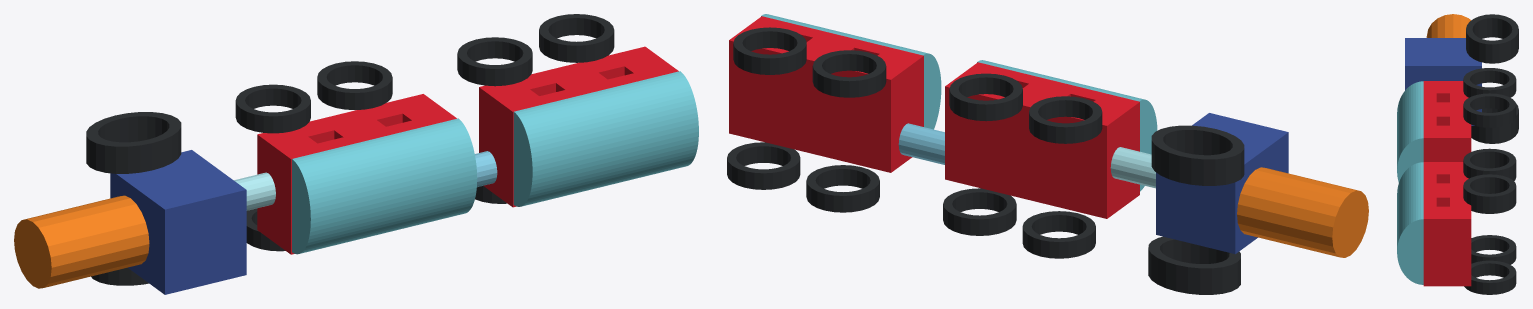
The model's file is tinker.obj.
The picture shows the model from 3 angles, left to right: view 1: azimuth 30°, elevation 25°; view 2: azimuth 150°, elevation 25°; view 3: azimuth 270°, elevation 25°; orthographic projection. The views are drawn at different scales.
Parts seen in each view (by area): view 1: group_0_7720667, group_0_2829873, group_0_15277357, group_0_3888547, group_0_16089887, group_0_11593967, group_0_8768998; view 2: group_0_15277357, group_0_2829873, group_0_16089887, group_0_3888547, group_0_7720667, group_0_8768998, group_0_11593967; view 3: group_0_2829873, group_0_15277357, group_0_7720667, group_0_3888547, group_0_16089887.
Boxes of the visible parts, x1,y1,x2,y2 form: group_0_7720667: (292,71,698,254); group_0_2829873: (86,14,614,285); group_0_15277357: (257,46,678,254); group_0_3888547: (110,150,246,294); group_0_16089887: (14,195,149,288); group_0_11593967: (234,172,275,210); group_0_8768998: (475,151,497,187); group_0_15277357: (729,16,1139,218); group_0_2829873: (727,27,1244,294); group_0_16089887: (1237,167,1368,257); group_0_3888547: (1156,113,1288,254); group_0_7720667: (761,14,1157,191); group_0_8768998: (898,123,944,164); group_0_11593967: (1110,147,1155,188); group_0_2829873: (1463,14,1518,294); group_0_15277357: (1423,81,1471,286); group_0_7720667: (1397,81,1423,284); group_0_3888547: (1405,38,1481,125); group_0_16089887: (1426,14,1470,37).
Size of the model in its own units: 192 by 43 by 46.
